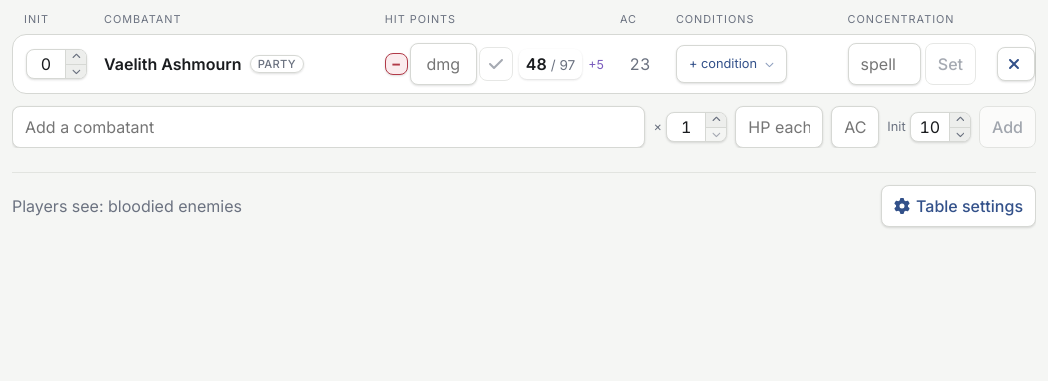
the DM board › offers the sweep only once something hand-typed is down
The width and height of the screenshot is (1048, 381).
Type "Goblin" into the field named "Combatant name" at (329, 127), box [12,106,645,148]
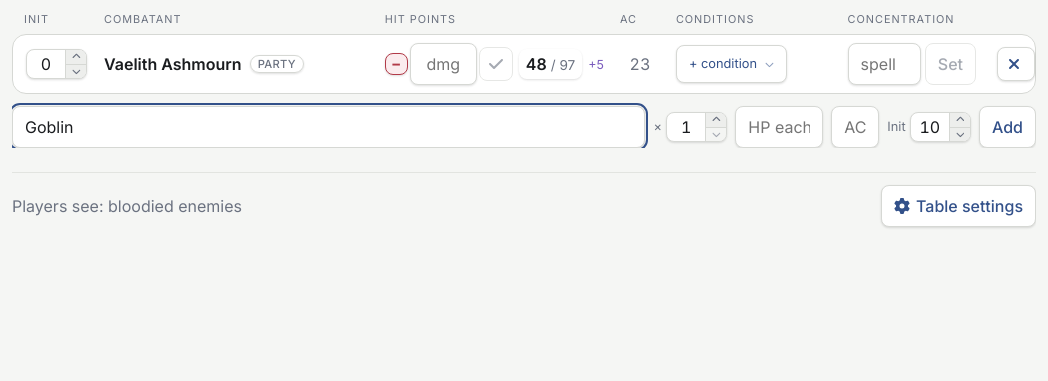
Replace the text in the number field named "How many" with "2" at (686, 127), box [667,113,705,141]
Then press Enter
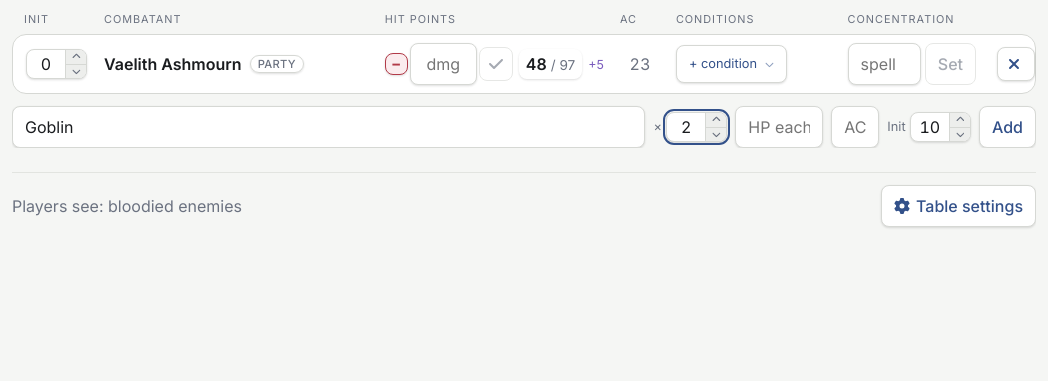
Type "7" into the field named "Hit points each (optional)" at (779, 127), box [735,106,823,148]
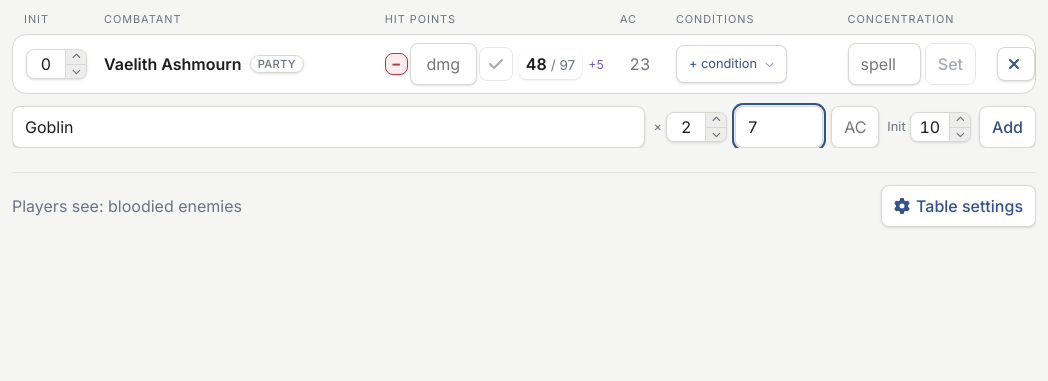
Click the button "Add" at (1008, 127), box [979,106,1036,148]
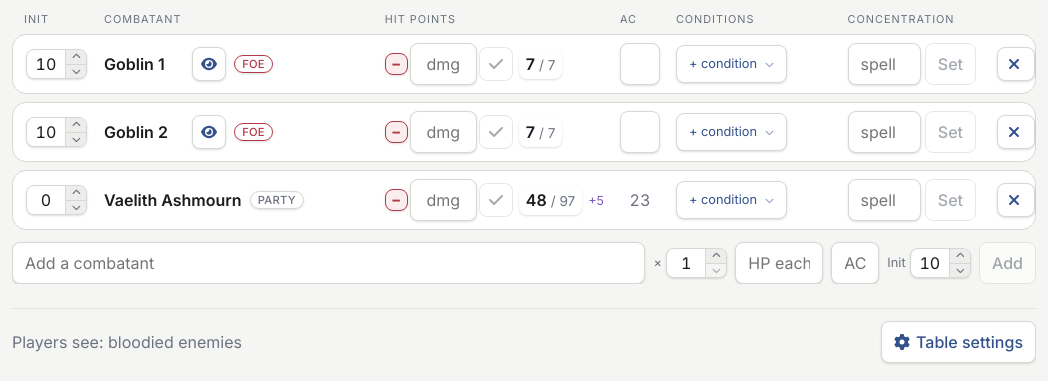
Expected: the text "Clear the fallen" is not shown
Type "7" into the field named "Damage to Goblin 1" at (443, 64), box [410,43,477,85]
Then press Enter
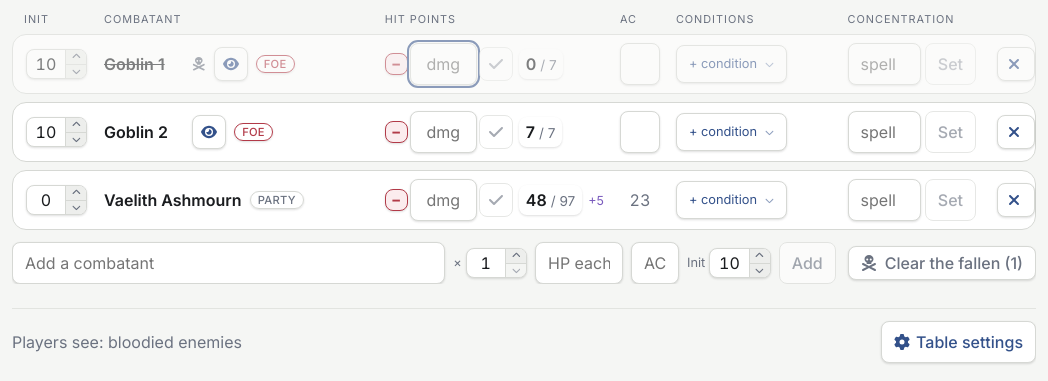
Click the button "Clear the fallen (1)" at (942, 263), box [848,246,1036,280]
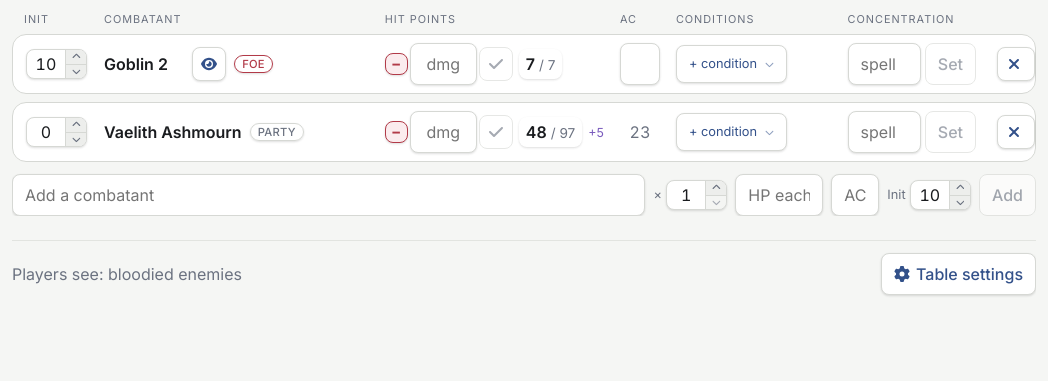
Now the text "Goblin 2" is shown, box [104,54,168,74]
Now the text "Goblin 1" is gone
